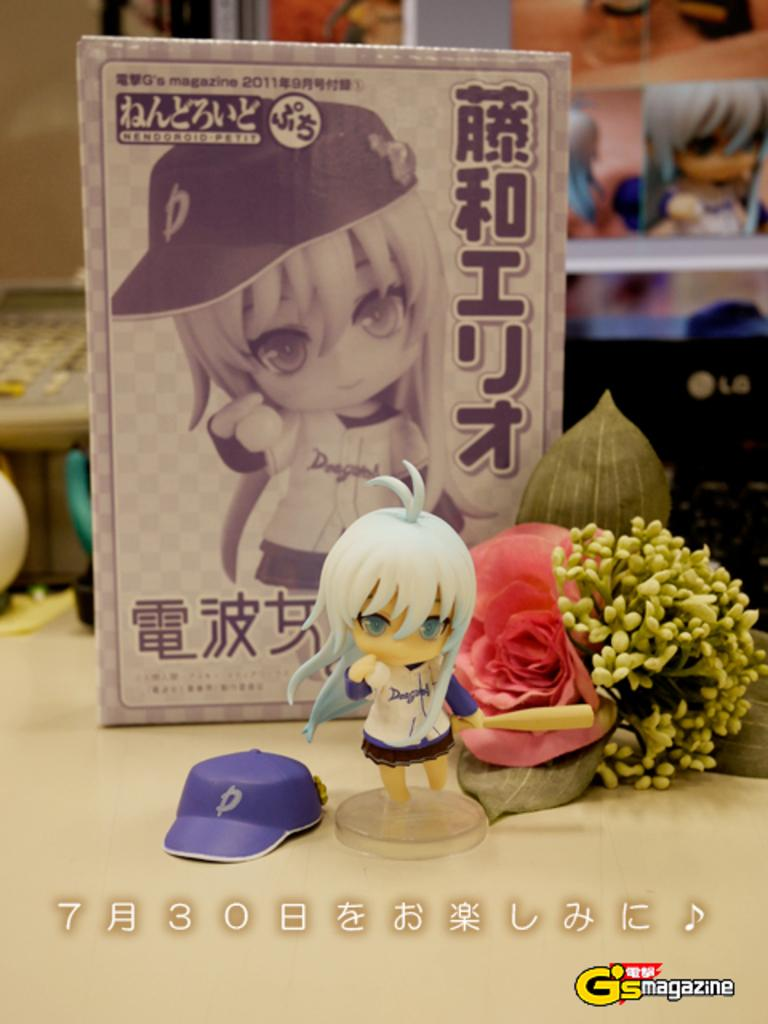Hat: (107, 96, 419, 322), (160, 744, 324, 860)
